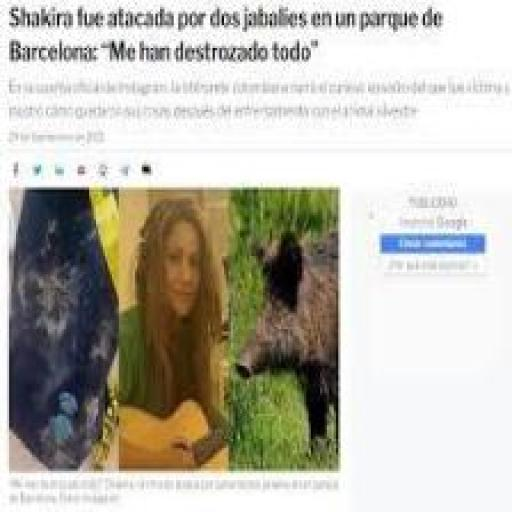Pig: (233, 222, 340, 465)
